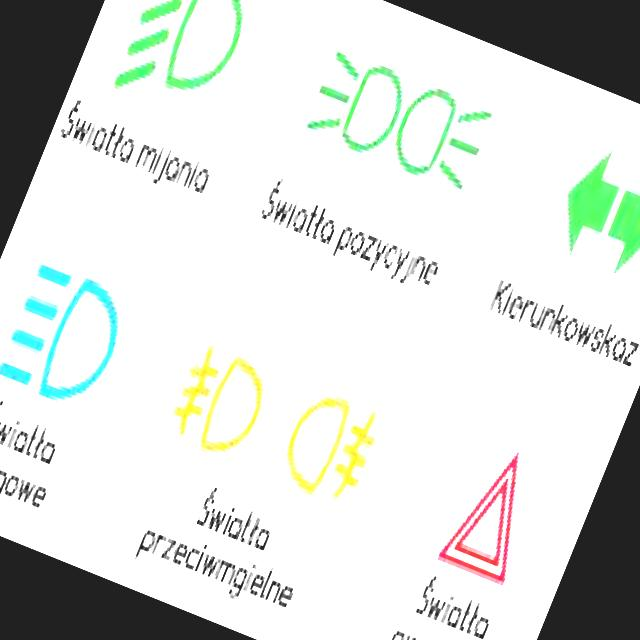kontrolka: (282, 13, 522, 234), (422, 408, 576, 608), (0, 240, 150, 436), (96, 0, 264, 141), (150, 314, 290, 476), (266, 371, 394, 522), (546, 120, 640, 242)
